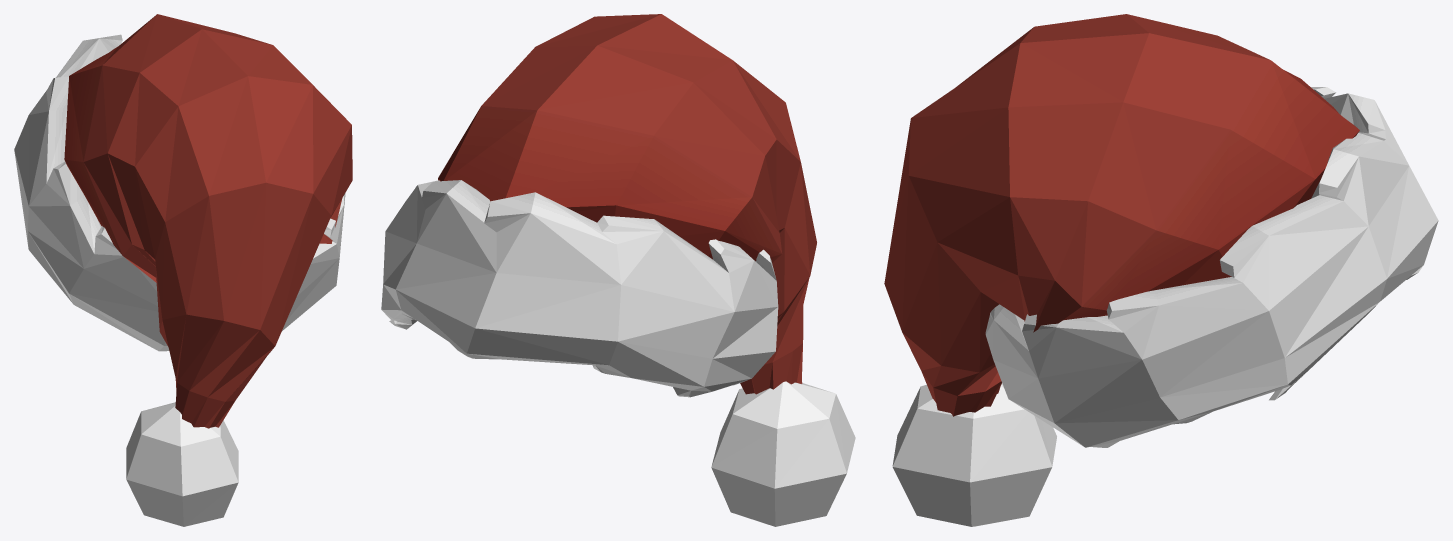
File: CharSkyKid_Hair_Xmas.glb
3 renders of one model, left to right at view 1: azimuth 30°, elevation 25°; view 2: azimuth 150°, elevation 25°; view 3: azimuth 270°, elevation 25°, orthographic. The views are drawn at different scales.
Visible parts, largest first — view 1: CharSkyKid_Hair_Xmas; view 2: CharSkyKid_Hair_Xmas; view 3: CharSkyKid_Hair_Xmas.
Part boxes in pixels (x1=…): CharSkyKid_Hair_Xmas: x1=14, y1=14, x2=352, y2=526; CharSkyKid_Hair_Xmas: x1=381, y1=14, x2=855, y2=526; CharSkyKid_Hair_Xmas: x1=884, y1=14, x2=1438, y2=526.
Bounding box in the file's own units: 2.91 × 4.12 × 3.78.
1 material, 1 textured.
